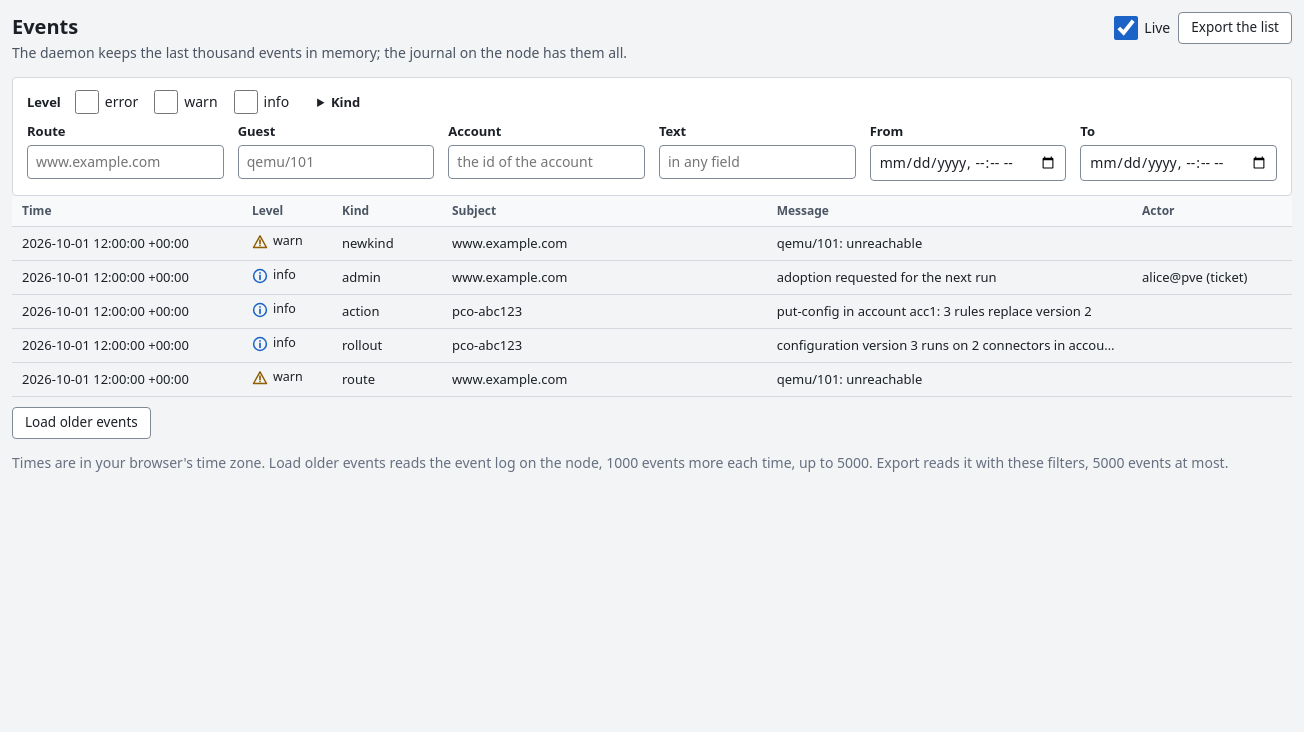
the filters and the address › offers the kinds of the events it has, besides those it knows
The image size is (1304, 732).
Click the heading "Kind".
click(346, 102)  # box [331, 93, 360, 111]
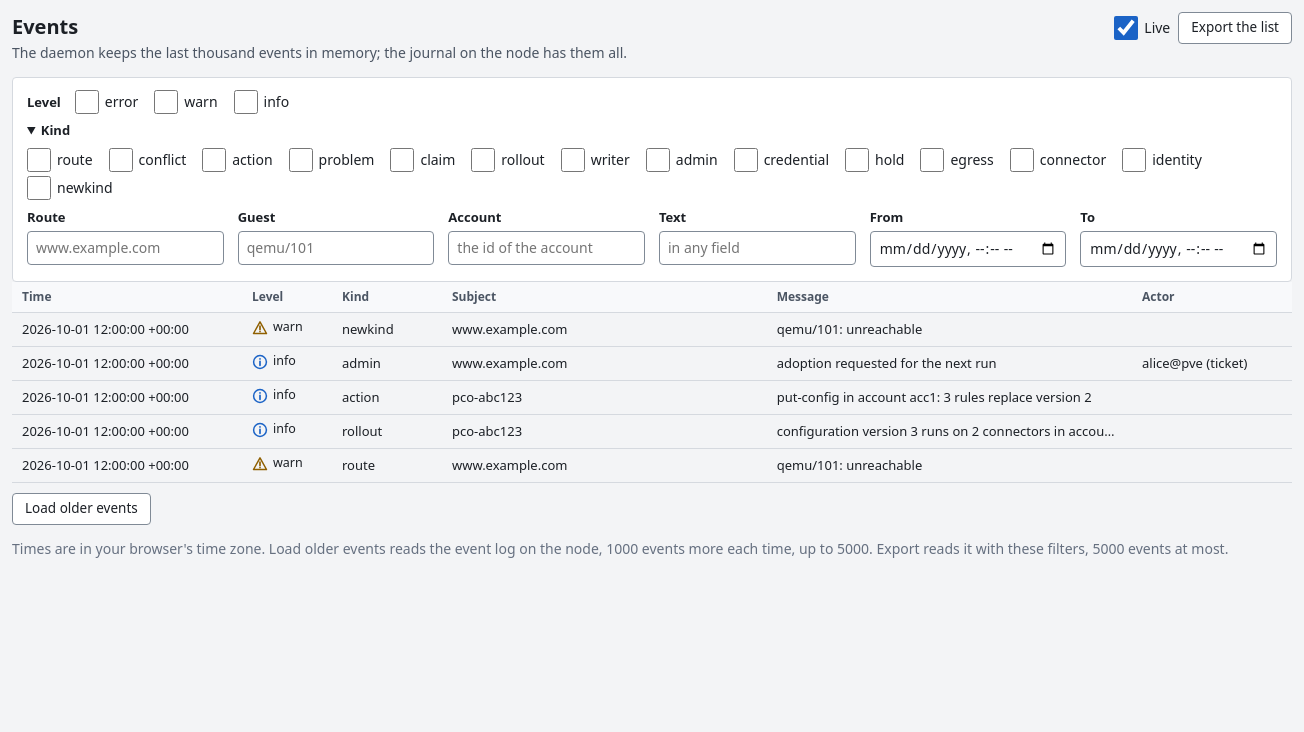
Now the checkbox labelled "newkind" is shown, box [27, 176, 51, 200]
Now the checkbox labelled "credential" is shown, box [734, 148, 758, 172]
